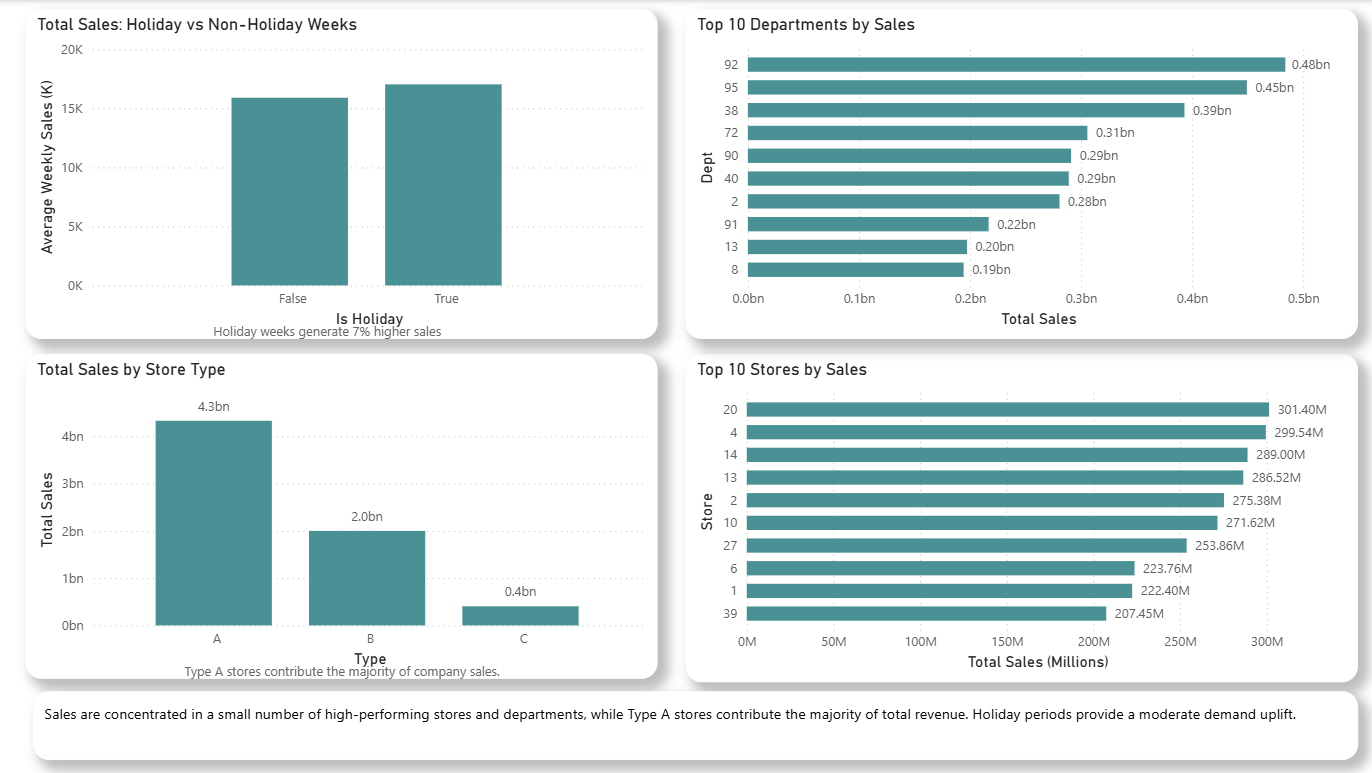

The dashboard page shown, as its layout file describes it:
{"tool":"powerbi","page":{"name":"Sales Drivers","canvas":[1280,720],"ordinal":1},"visuals":[{"type":"clusteredColumnChart","title":"Total Sales: Holiday vs Non-Holiday Weeks","fields":{"Category":["cleaned_data.IsHoliday"],"Y":["Avg(cleaned_data.Weekly_Sales)"]},"box":[25.6,8.1,588.4,307],"z":0},{"type":"textbox","box":[195.3,293,333.7,44.2],"z":1000},{"type":"clusteredColumnChart","title":"Total Sales by Store Type","fields":{"Y":["Sum(cleaned_data.Weekly_Sales)"],"Category":["cleaned_data.Type"]},"box":[25.6,329.1,588.4,302.3],"z":2000},{"type":"textbox","box":[168.6,591.9,360.5,51.2],"z":3000},{"type":"barChart","title":"Top 10 Stores by Sales","fields":{"Category":["cleaned_data.Store"],"Y":["Sum(cleaned_data.Weekly_Sales)"]},"box":[639.5,329.1,625.6,305.8],"z":4000},{"type":"clusteredBarChart","title":"Top 10 Departments by Sales","fields":{"Category":["cleaned_data.Dept"],"Y":["Sum(cleaned_data.Weekly_Sales)"]},"box":[639.5,8.1,625.6,307],"z":5000},{"type":"textbox","box":[32.6,643,1232.6,64],"z":6000}]}

Visuals, with their boxes in screenshot pixels (x1, y1, x2, y2), scaled from the page's 1280x720 canvas onto the 1372x773 screenshot:
"Total Sales: Holiday vs Non-Holiday Weeks" clusteredColumnChart: 27:9:658:338
textbox: 209:315:567:362
"Total Sales by Store Type" clusteredColumnChart: 27:353:658:678
textbox: 181:635:567:690
"Top 10 Stores by Sales" barChart: 685:353:1356:682
"Top 10 Departments by Sales" clusteredBarChart: 685:9:1356:338
textbox: 35:690:1356:759
